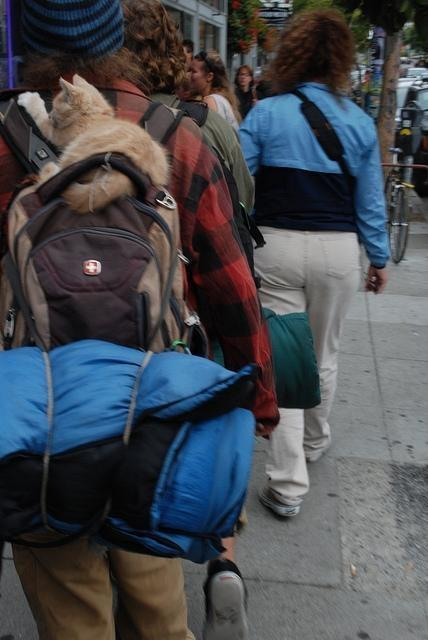bicycle: (385, 148, 417, 264)
